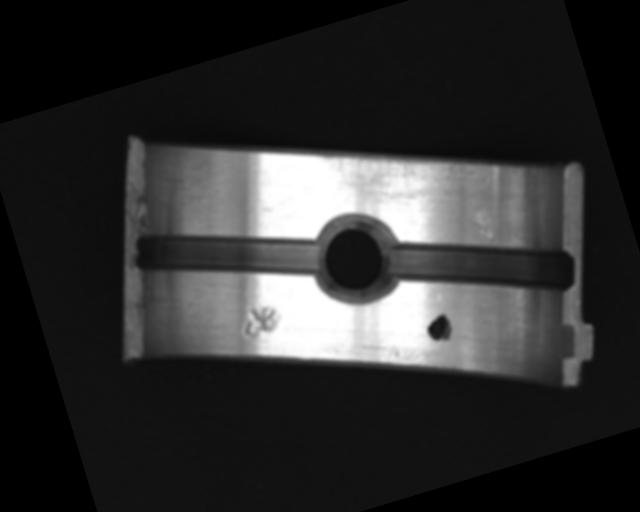blot: (423, 311, 456, 346)
bruise: (237, 299, 286, 342), (471, 206, 498, 244)
gap: (384, 200, 580, 337), (129, 189, 325, 321)
hole: (303, 205, 411, 313)
scratch: (313, 112, 476, 226)
